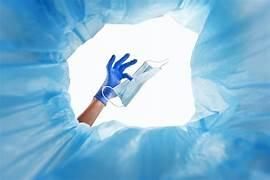Glove: (94, 53, 136, 104)
Mask: (112, 61, 163, 105)
